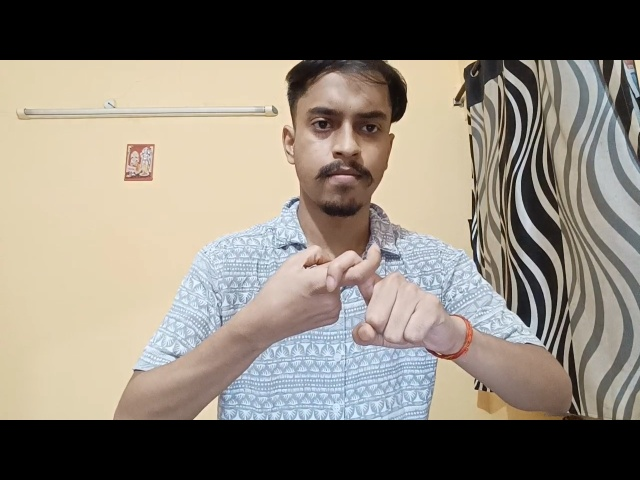Friend: (264, 223, 454, 372)
